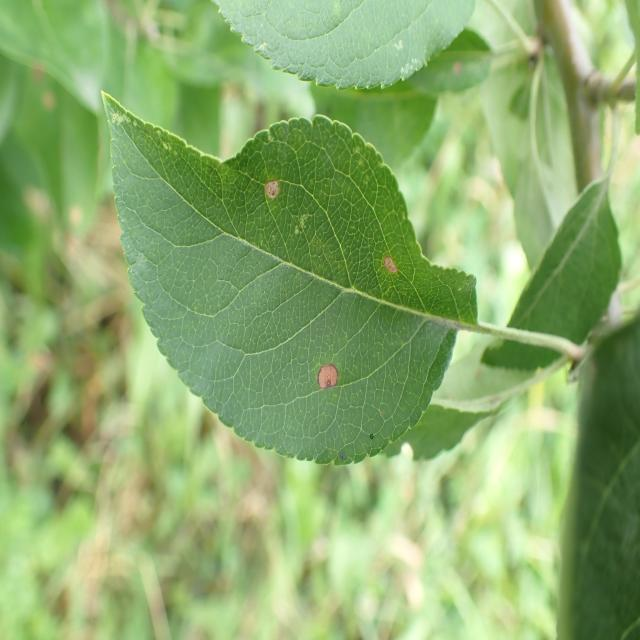frog-eye-leaf-spot: (100, 85, 480, 466)
